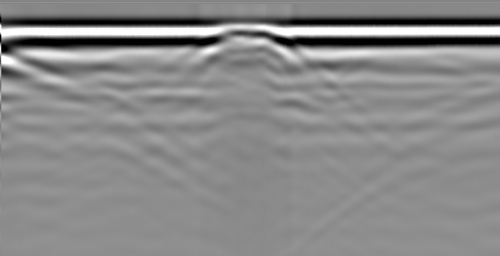steel: (209, 28, 290, 50)
